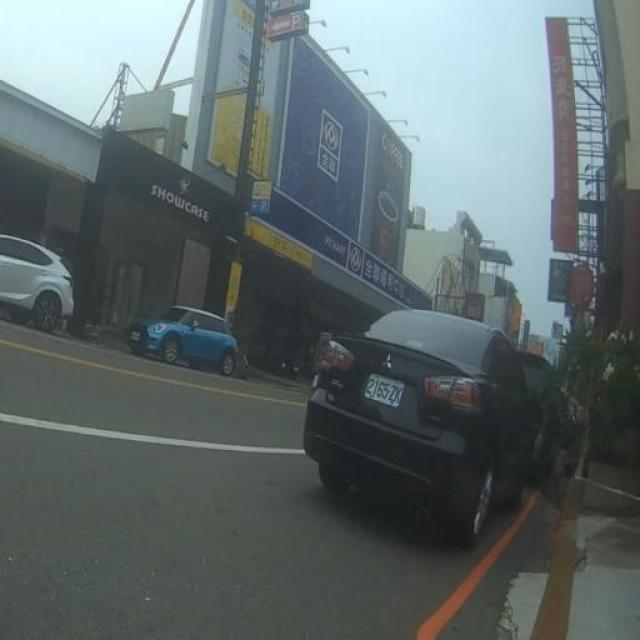illegalparking: (298, 259, 553, 565)
